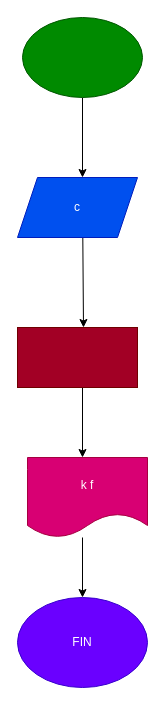
This 165x705 diagram has some shape labels left out. The shapes that lost their labels are listed below. From the top down, each one's box as (x1, y1, x2, y2) in pixels, then its label:
(22, 16, 142, 98): INICIO
(16, 326, 138, 388): k=c+273.15 f=c+1.8*32
